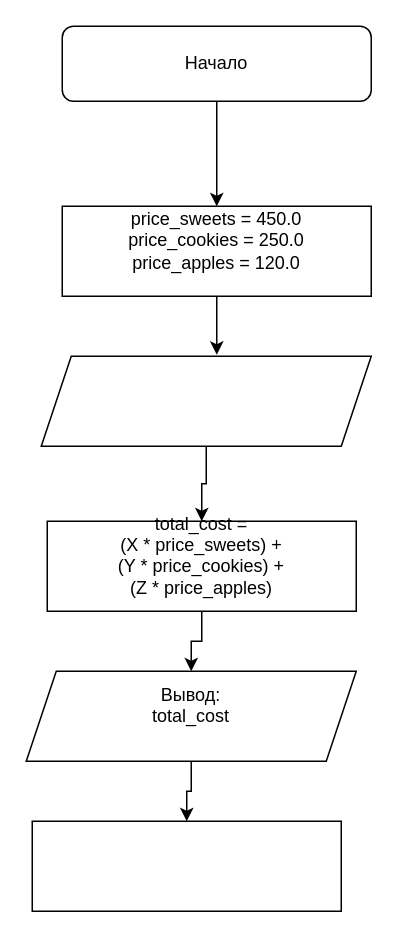
The diagram is 398 pixels wide and 938 high, and some of its shapes have lost their labels. The shapes that lost their labels are listed below. From the top down, each one's centre as x and y in pixels, then its label:
At point (205, 400): "Ввод: X, Y, Z".
At point (186, 865): "Конец".
